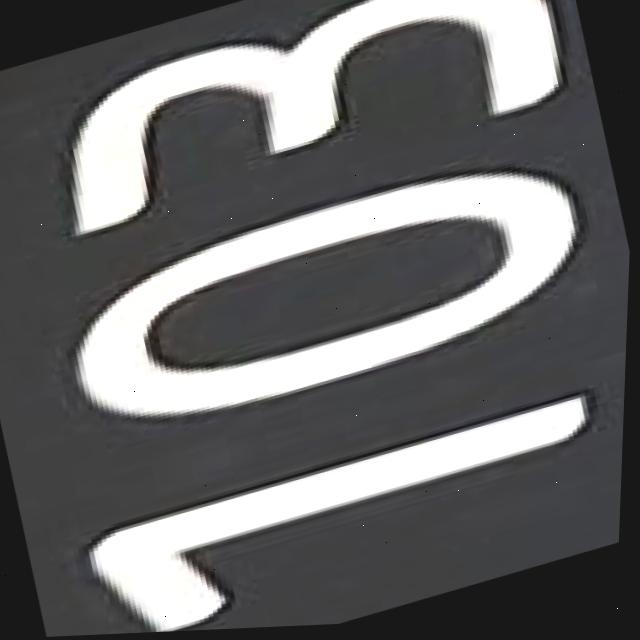character: (35, 128, 609, 464), (64, 374, 625, 636), (27, 0, 585, 249)
